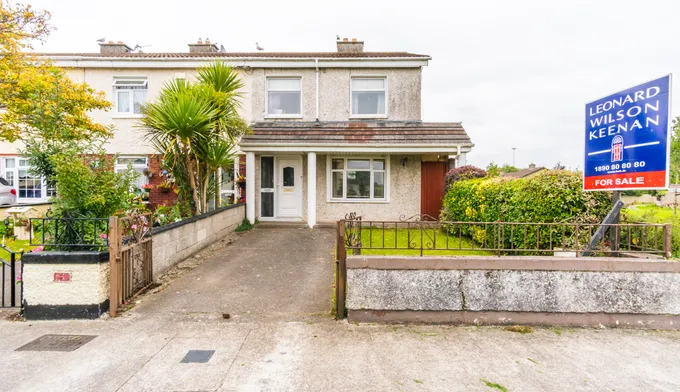property sign: (579, 69, 673, 211)
